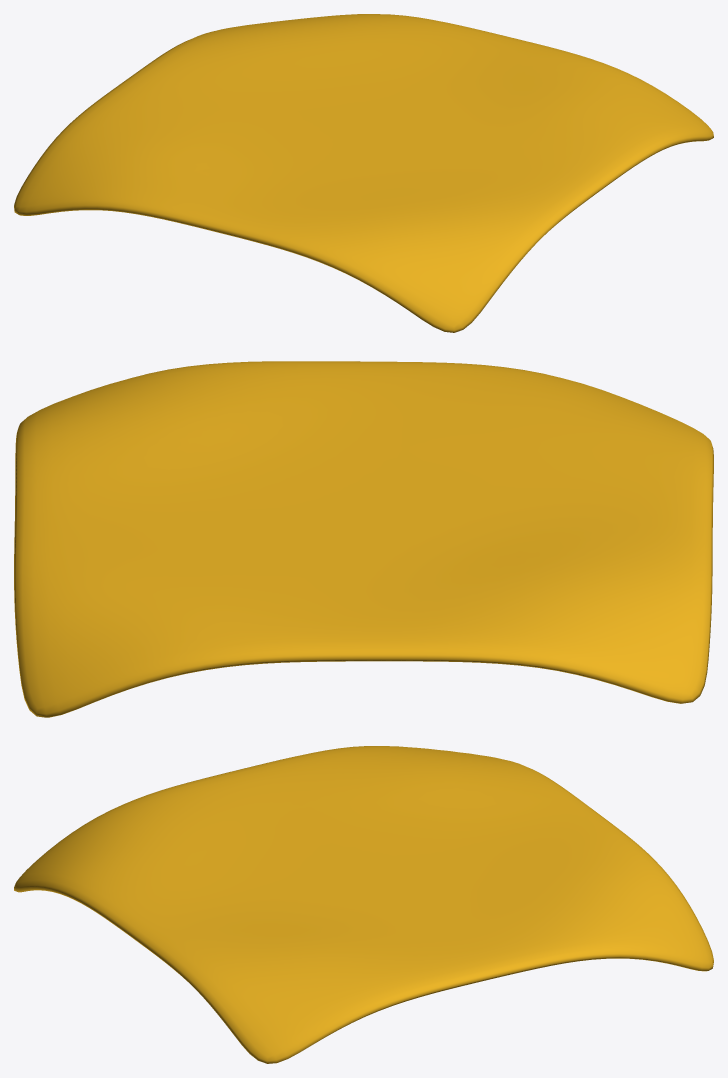
The model's file is cheese.gltf.
The picture shows the model from 3 angles, top to bottom: view 1: azimuth 30°, elevation 25°; view 2: azimuth 150°, elevation 25°; view 3: azimuth 270°, elevation 25°; orthographic projection. The views are drawn at different scales.
Parts seen in each view (by area): view 1: Plane; view 2: Plane; view 3: Plane.
Boxes of the visible parts, bbox=[...] form: Plane: bbox=[14, 14, 713, 332]; Plane: bbox=[14, 361, 713, 717]; Plane: bbox=[14, 746, 713, 1063].
Size of the model in its own units: 6.6 by 0.6818 by 6.51.
